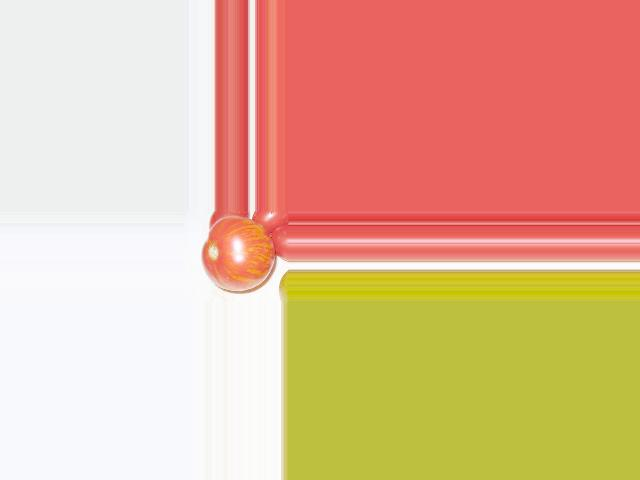tomato: (200, 215, 275, 291)
